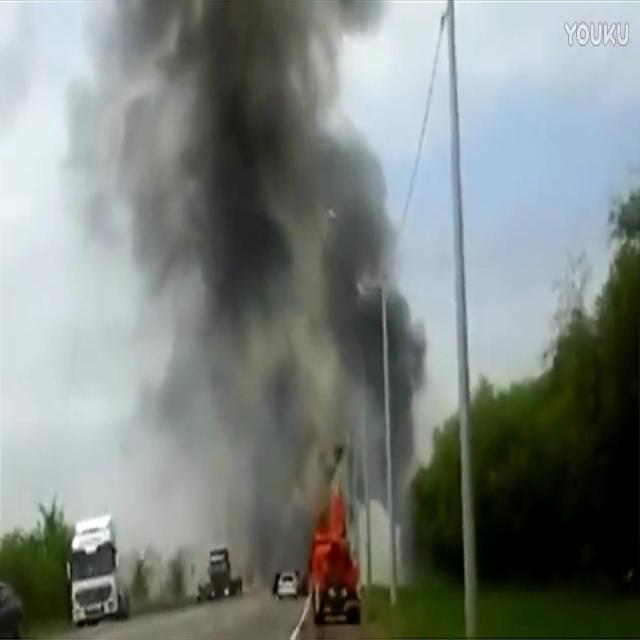fire: (312, 486, 356, 589)
smoke: (84, 1, 426, 568)
